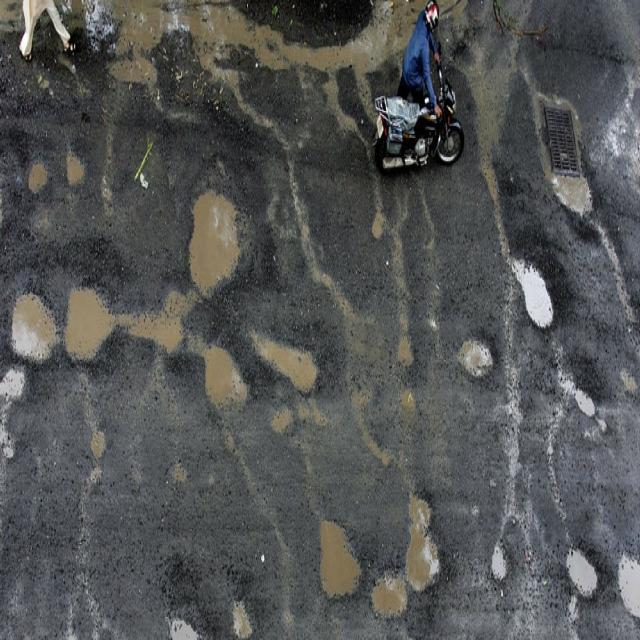Pothole: (1, 0, 469, 93), (184, 174, 248, 286), (123, 260, 191, 360), (306, 518, 370, 612), (181, 332, 245, 426), (252, 316, 326, 397), (60, 274, 123, 356), (507, 230, 560, 326), (398, 474, 440, 584), (551, 366, 607, 444), (365, 554, 421, 632), (552, 536, 604, 599), (16, 292, 64, 356), (619, 533, 640, 616), (24, 142, 59, 190), (456, 321, 494, 364), (82, 456, 119, 500), (483, 528, 518, 570), (4, 363, 39, 405), (78, 419, 116, 456), (62, 142, 90, 188), (168, 466, 202, 492)
